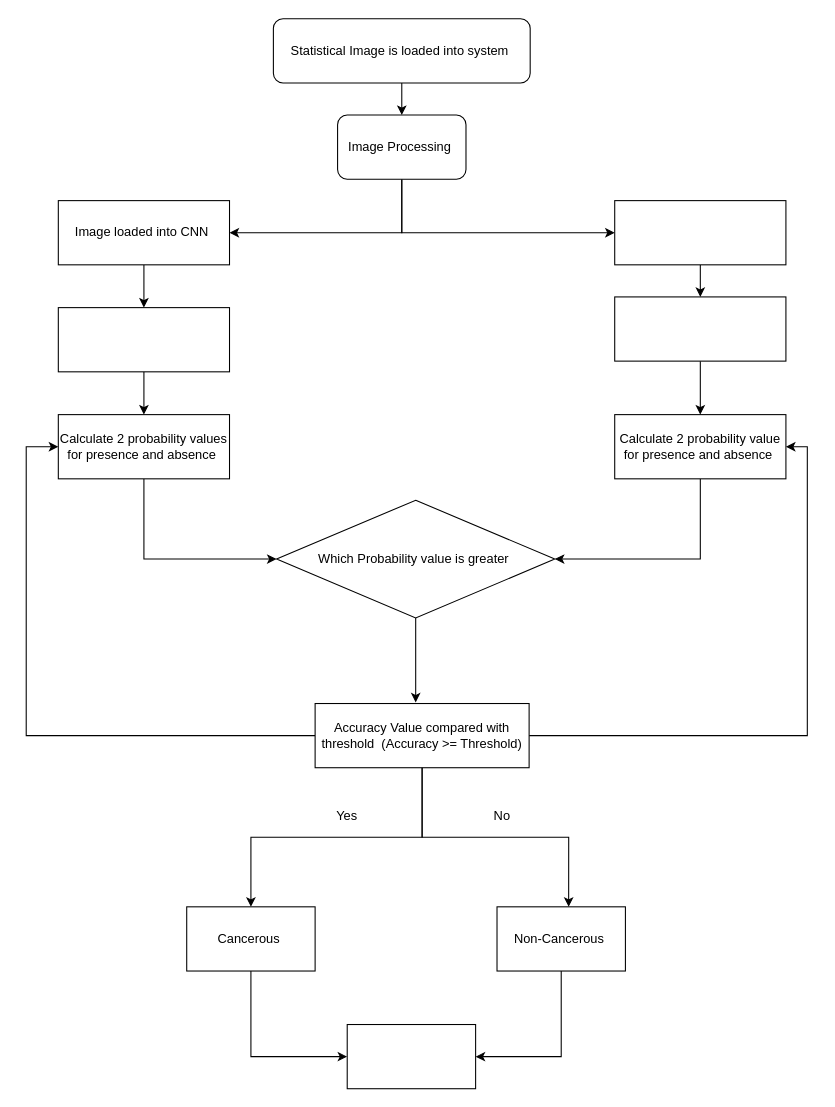
Some shapes in this 835 by 1107 pixel diagram are drawn without their labels. The centre of each missing label's shape, as x and y in pixels:
End: the point at 411,1056
Feature Extraction: the point at 700,328
Features extraction: the point at 143,339
Image loaded into QCNN: the point at 700,232
